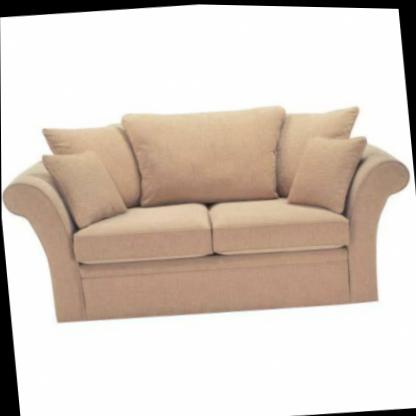Sofa: (1, 87, 416, 334)
